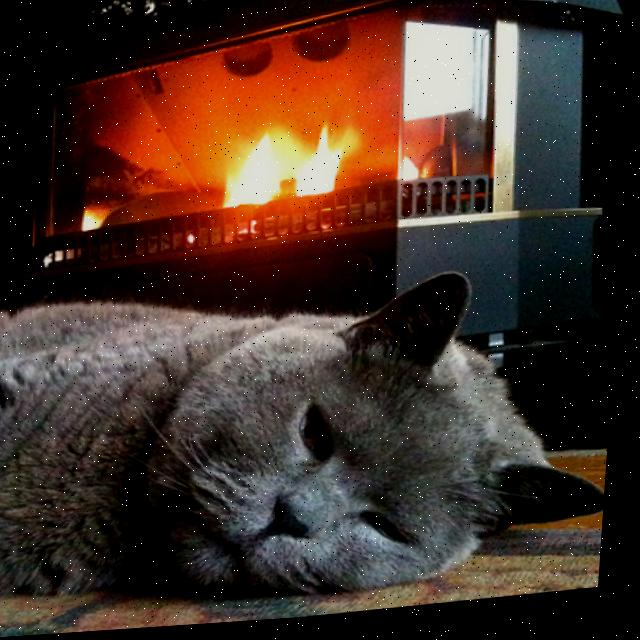British Shorthair: (0, 248, 625, 632)
